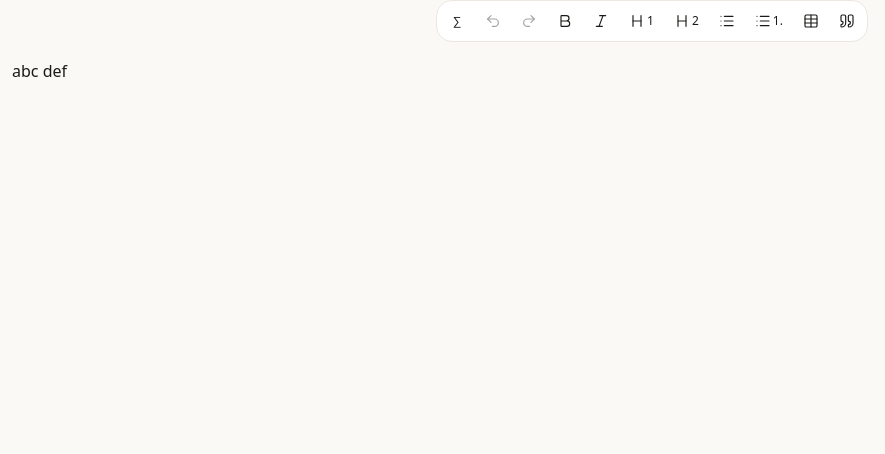
Scenario: copies structured clipboard data and reports denied copy without changing text
The width and height of the screenshot is (885, 454).
Press F10 in the field named "Canvas", box [12, 60, 67, 82]
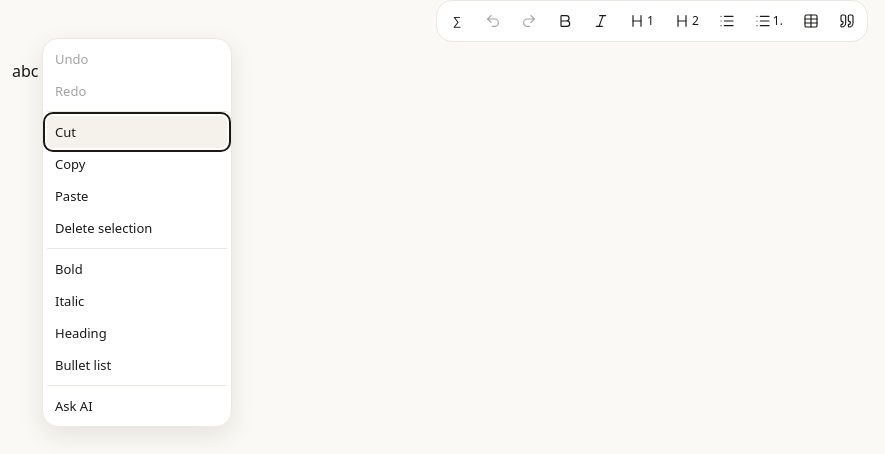
Click the menu item "Copy".
click(137, 164)  # box [47, 148, 227, 180]
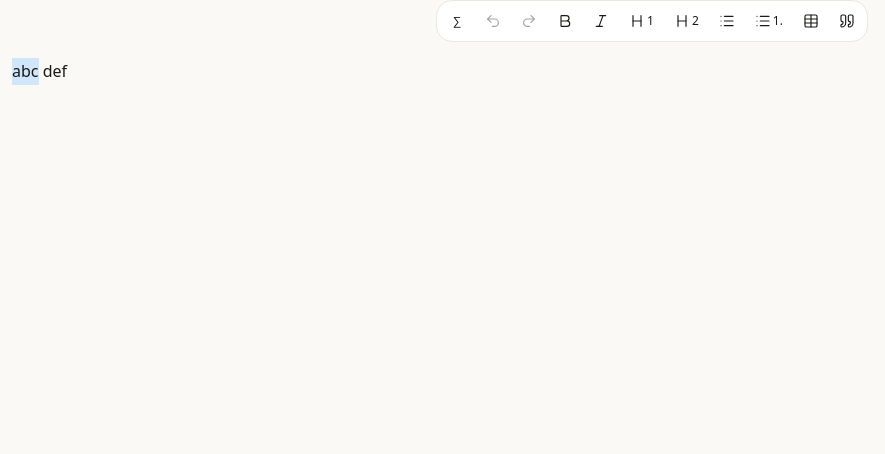
Press F10 in the field named "Canvas", box [12, 60, 67, 82]
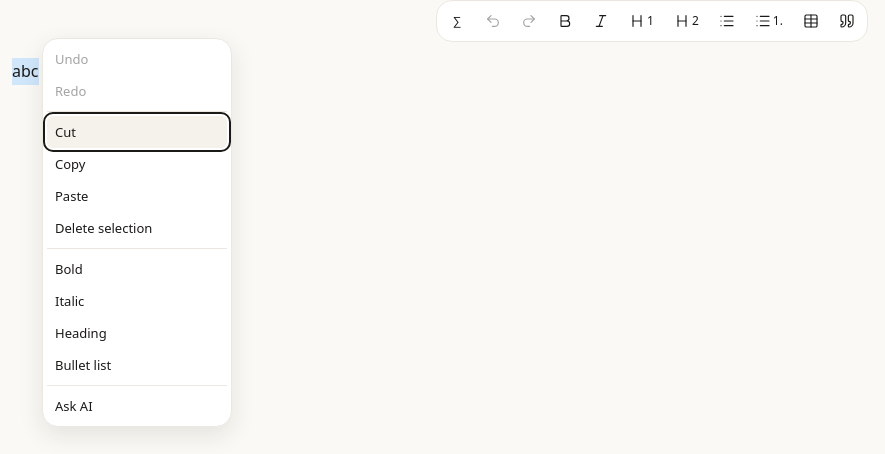
Click the menu item "Copy".
click(137, 164)  # box [47, 148, 227, 180]
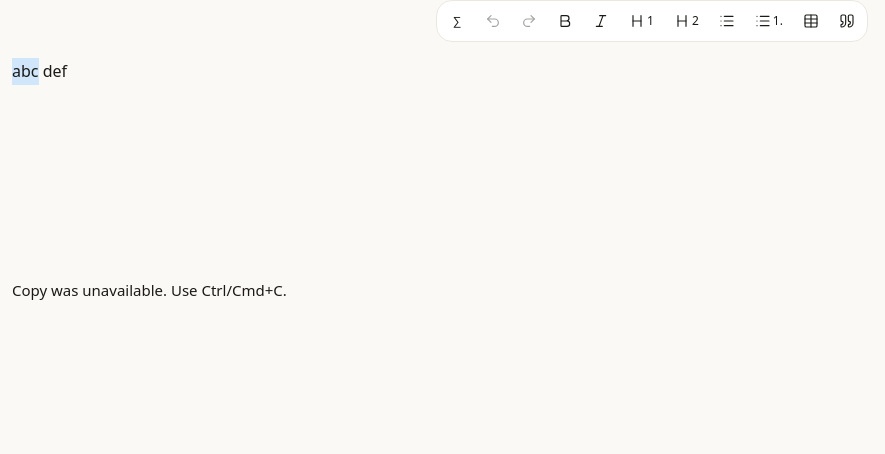
Check: the text box labelled "abc def" is shown, box [12, 60, 67, 82]
Check: the text "Copy was unavailable. Use Ctrl/Cmd+C." is shown, box [12, 280, 287, 300]
